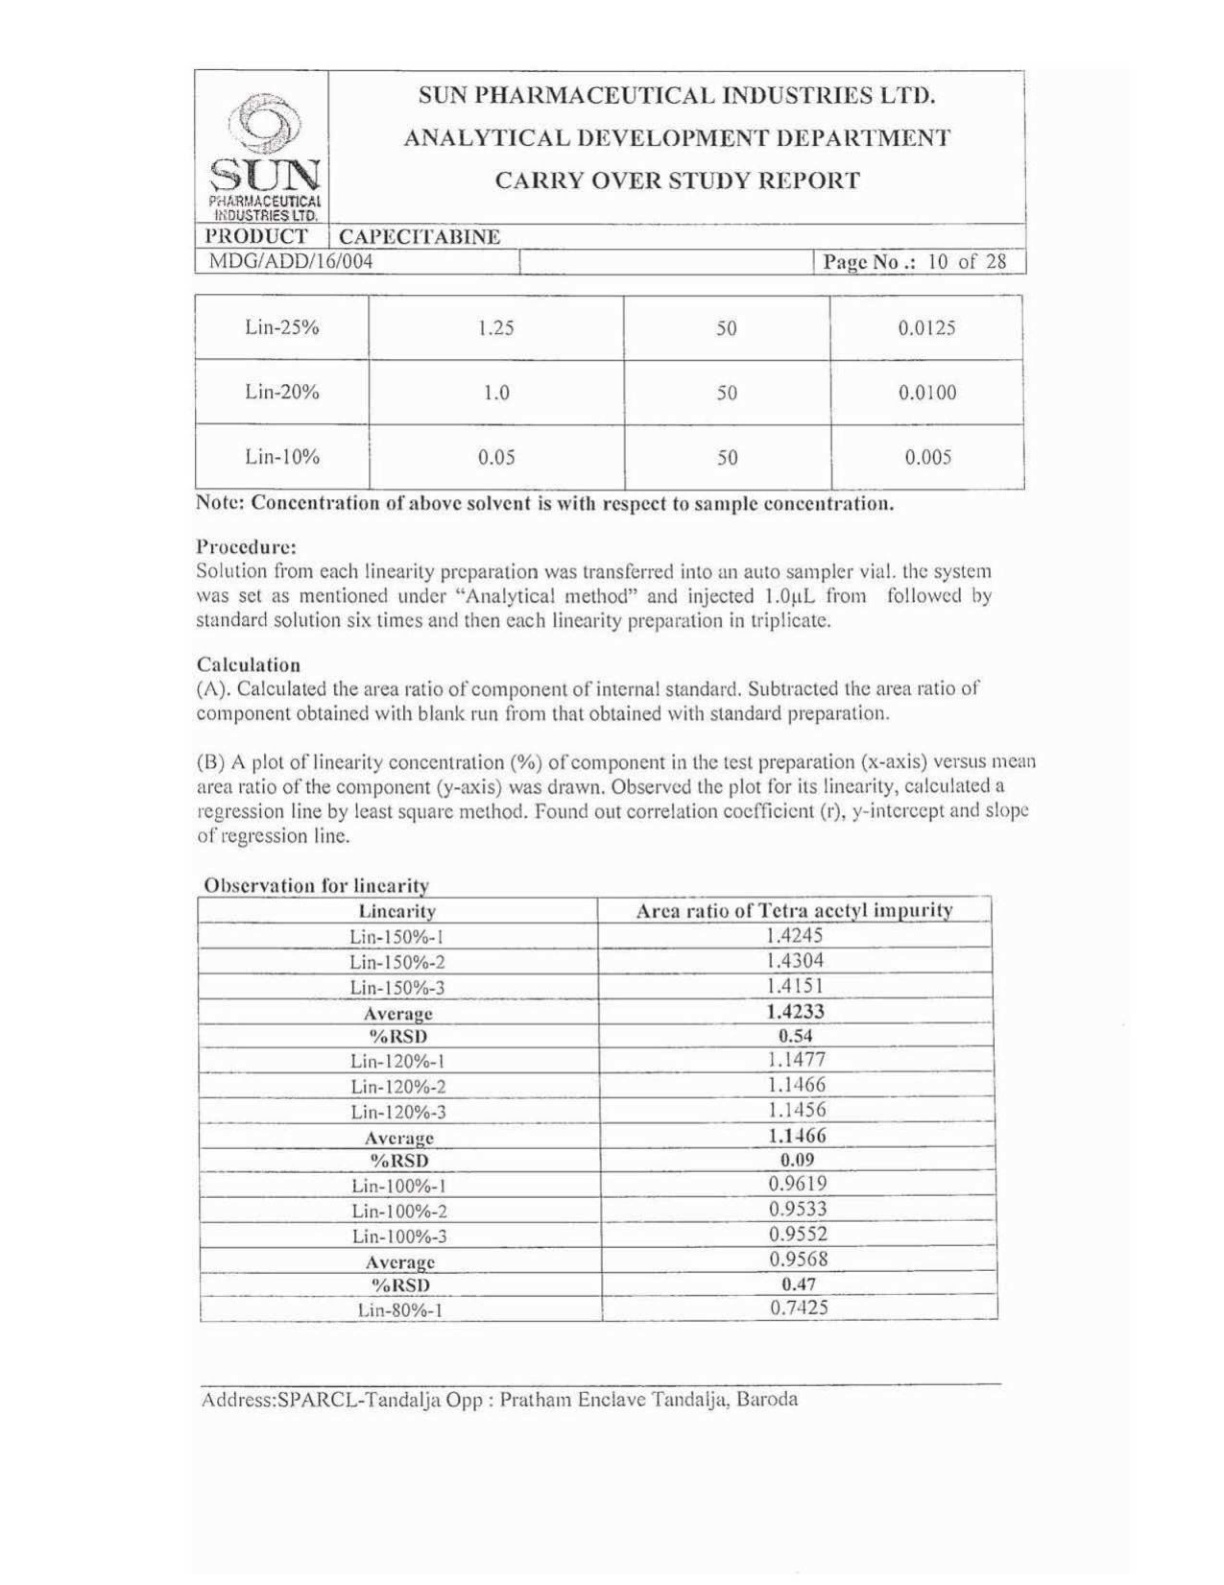full_lined: (195, 893, 999, 1321), (194, 293, 1026, 492)
merged_cells: (192, 67, 1029, 276)
